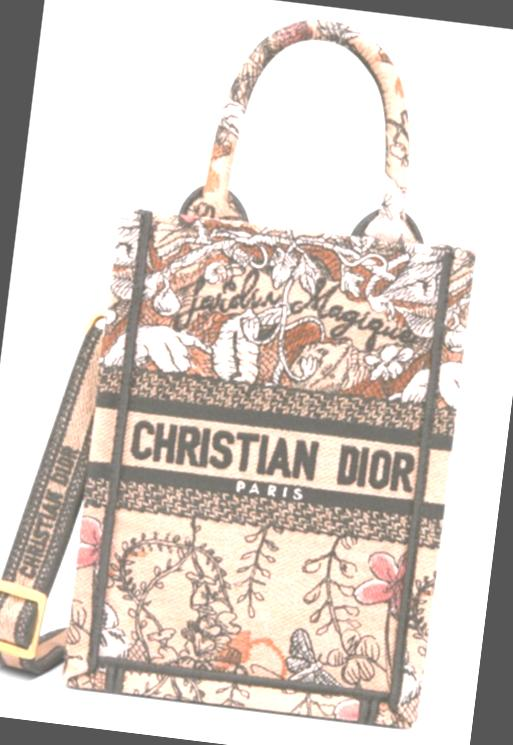DIOR: (120, 385, 436, 528), (0, 425, 95, 593)
